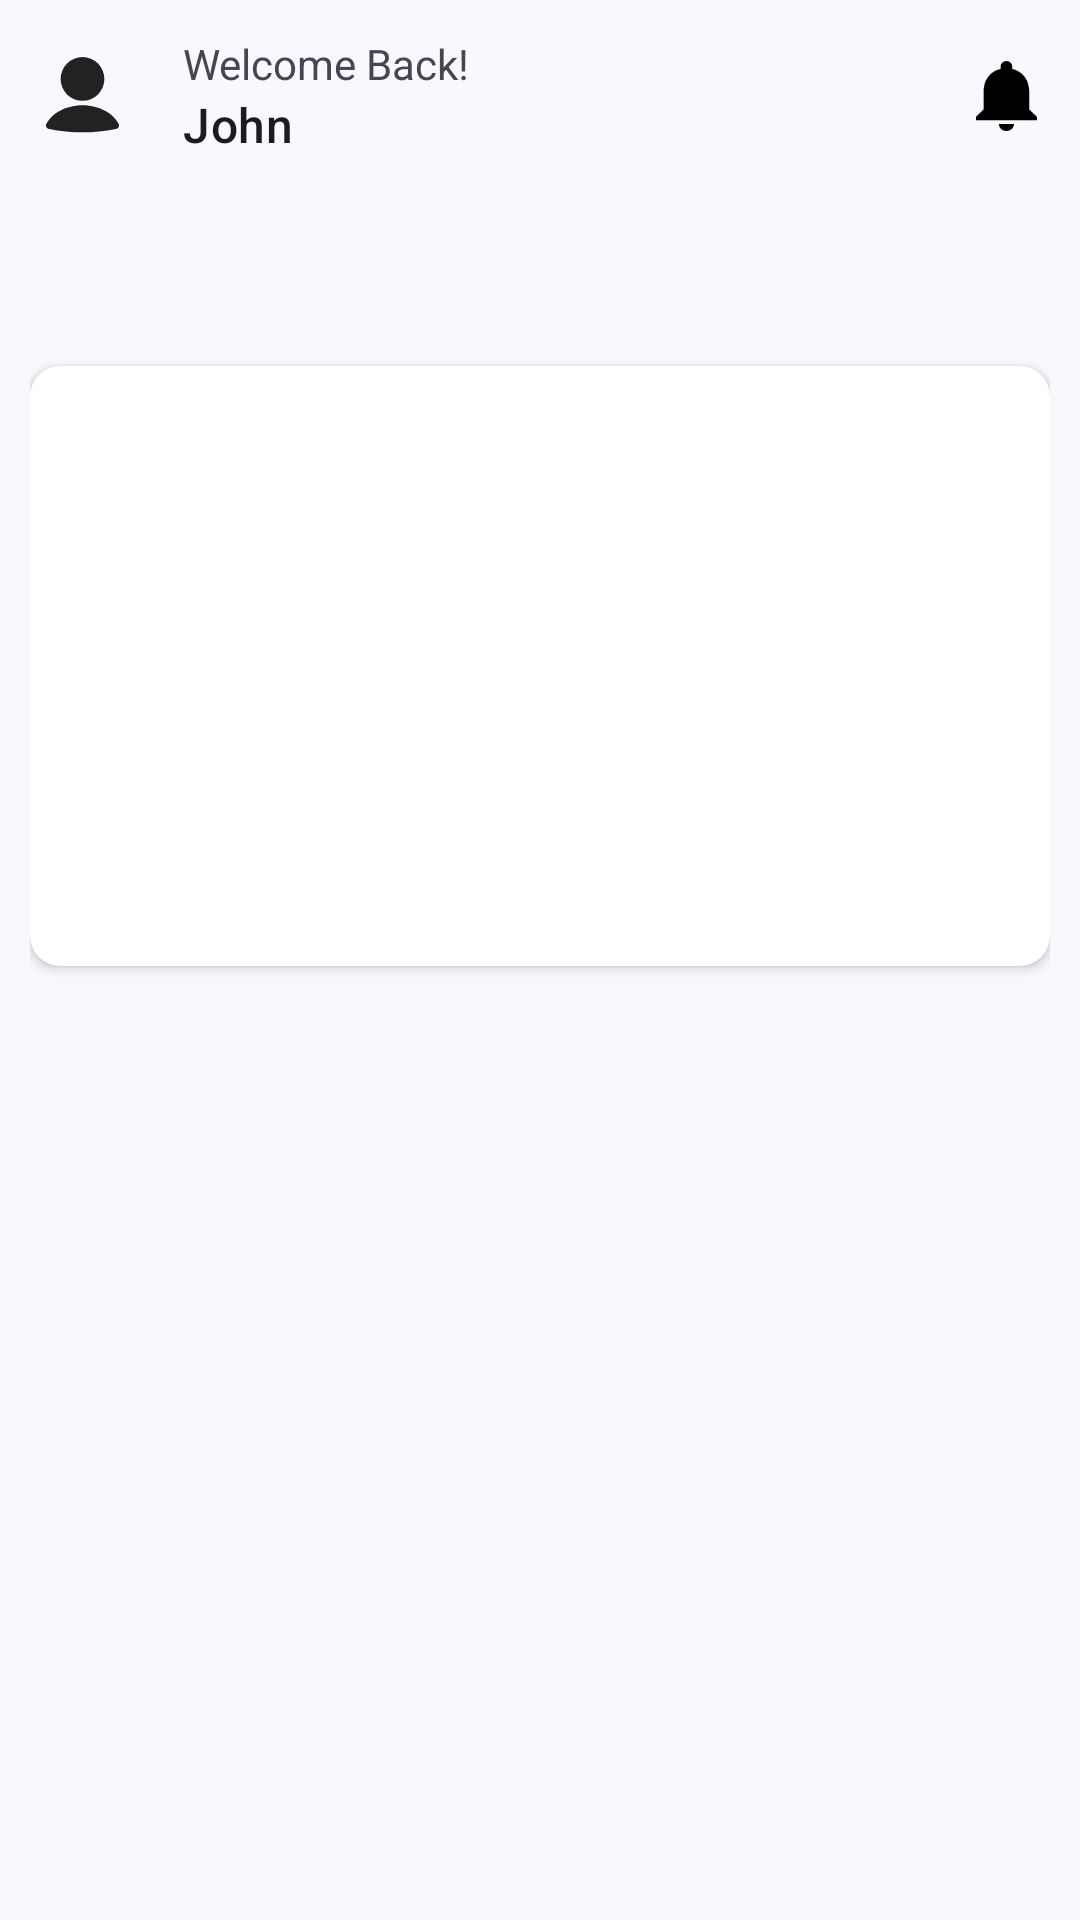

Icons on this 1080 x 1920 Android screen, each with its box as (left=x1, top=y1, right=x2, bottom=y2):
user: (left=46, top=57, right=119, bottom=133)
